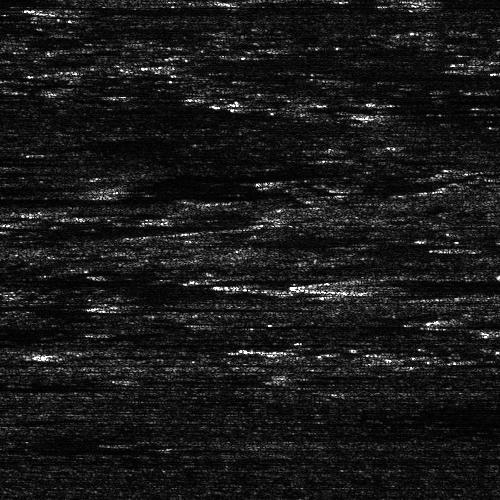object: (314, 106, 449, 119), (429, 45, 500, 64), (248, 174, 363, 185), (9, 6, 92, 15), (394, 316, 477, 325), (394, 0, 467, 5), (79, 302, 142, 307), (426, 245, 489, 250), (8, 352, 71, 357), (474, 325, 500, 334), (269, 377, 310, 380), (0, 417, 22, 422), (485, 271, 500, 276)
shadow: (0, 187, 133, 210), (50, 6, 356, 15), (306, 174, 465, 185), (382, 106, 500, 119), (0, 381, 67, 394), (110, 302, 256, 307), (39, 352, 183, 357), (436, 316, 500, 325), (431, 0, 500, 5), (0, 417, 56, 422), (290, 377, 366, 380), (457, 245, 500, 250), (0, 157, 30, 164)
